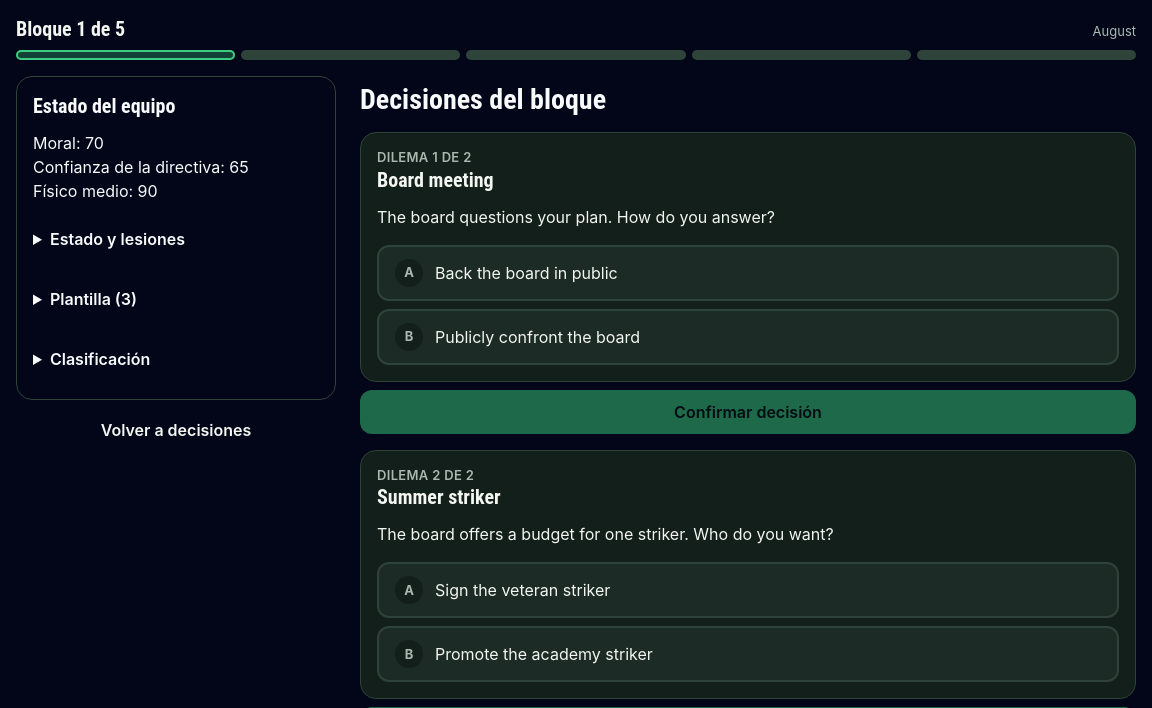
RunLoop › shows real differences, explains the mean and focuses the confirmation
Check: the heading "Board meeting" is shown, box [377,168,494,192]
Click the button "A Back the board in public".
click(526, 273)  # box [377,245,1119,301]
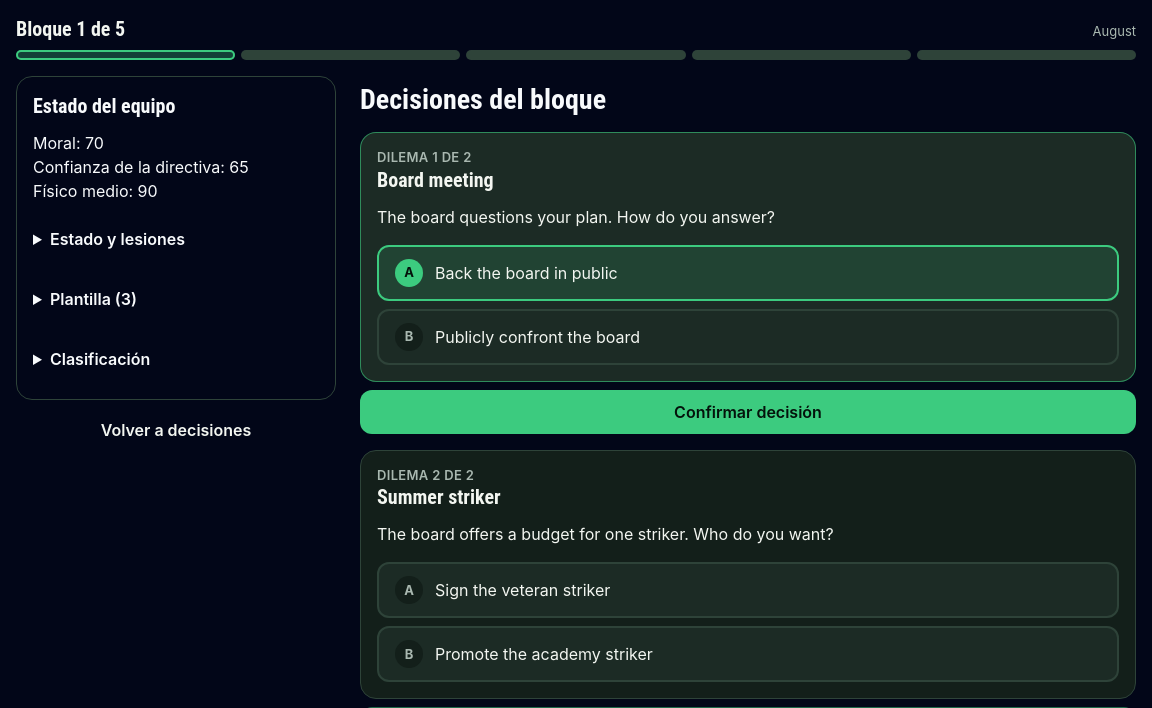
Click the button with aria-label "Confirmar: Board meeting".
click(748, 412)  # box [360,390,1136,434]
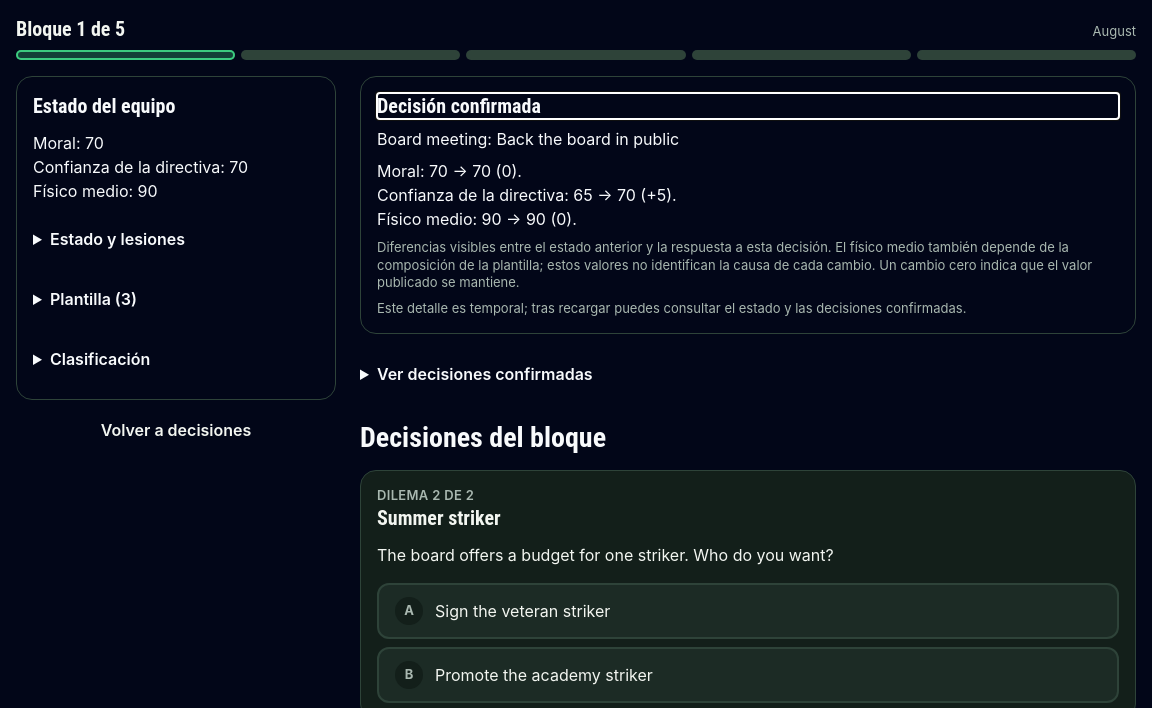
Check: the list item "Moral: 70 → 70 (0)." is shown, box [377,161,522,181]
Check: the list item "Confianza de la directiva: 65 → 70 (+5)." is shown, box [377,185,677,205]
Check: the list item "Físico medio: 90 → 90 (0)." is shown, box [377,209,577,229]
